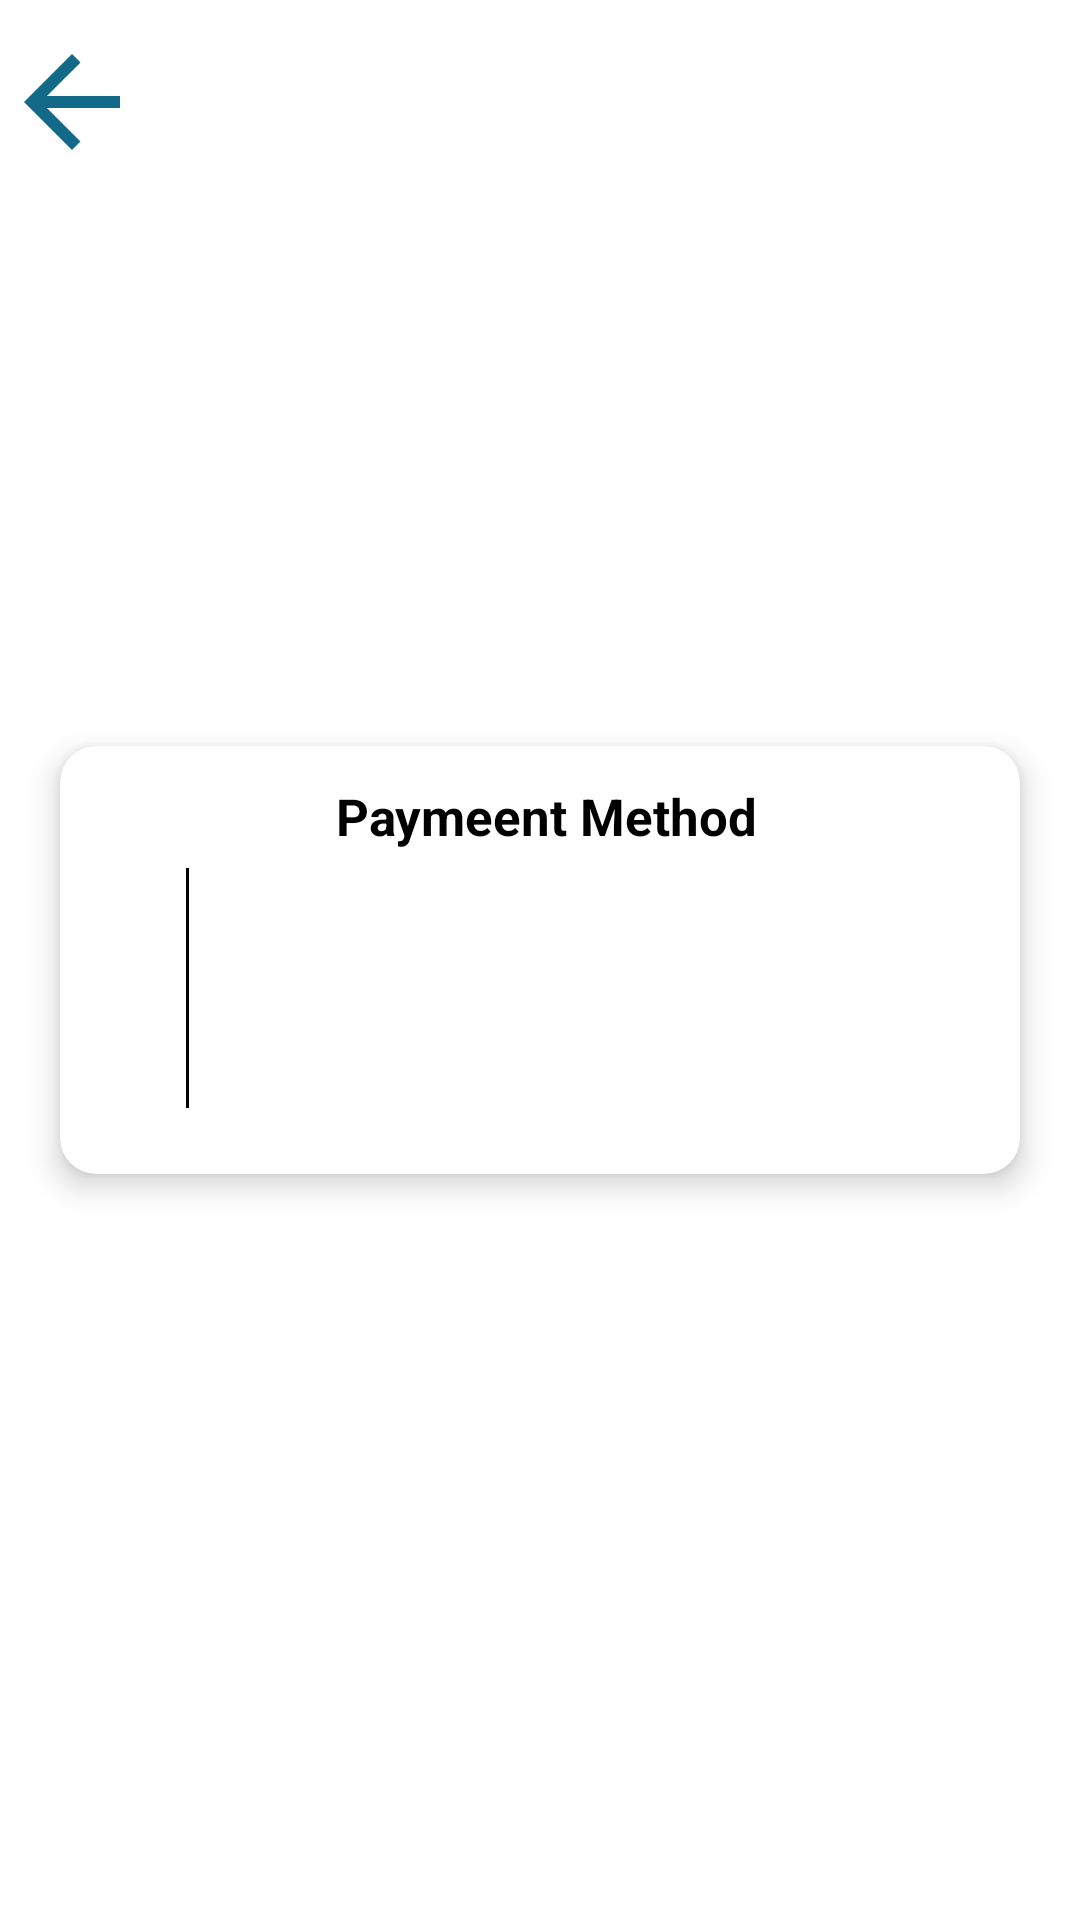

Point at icon controls on the screen. Image size 1080x1920, points as (x,y).
arrow back brown: (72,102)
